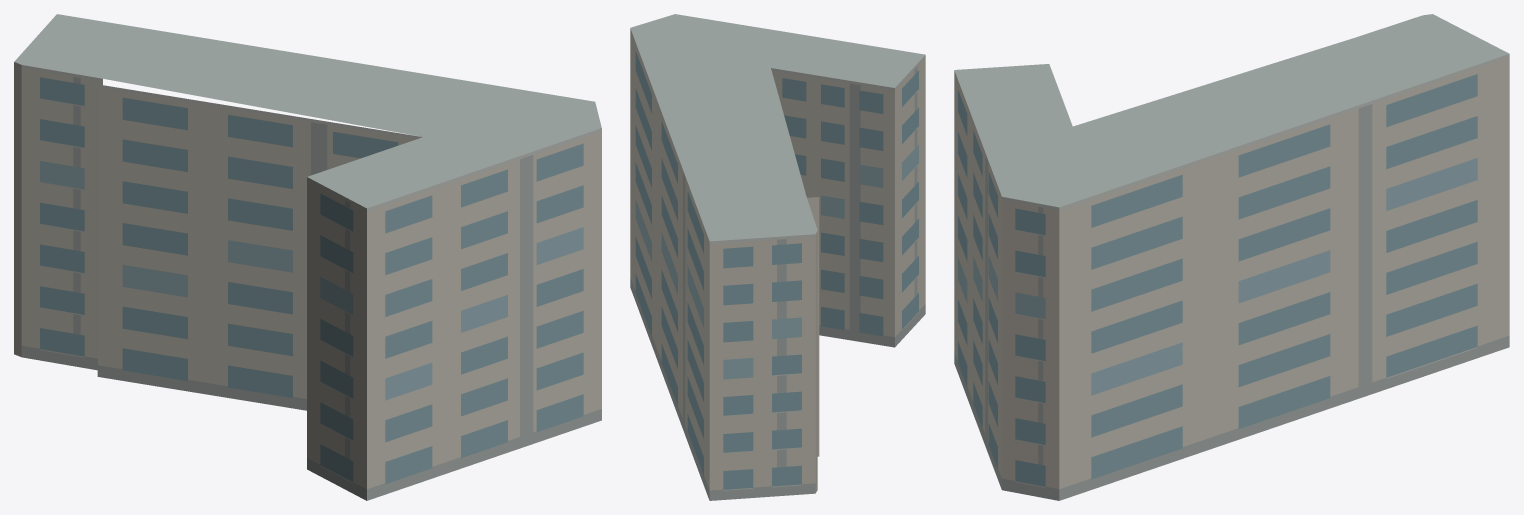
Rendered from survey-upis-32967849.glb.
3 views of the same model, side by side, from view 1: azimuth 30°, elevation 25°; view 2: azimuth 150°, elevation 25°; view 3: azimuth 270°, elevation 25° (orthographic). The views are drawn at different scales.
Visible parts, largest first — view 1: survey-upis-32967849.tmp; view 2: survey-upis-32967849.tmp; view 3: survey-upis-32967849.tmp.
Part boxes in pixels (<box>): survey-upis-32967849.tmp: <box>14,14,601,500</box>; survey-upis-32967849.tmp: <box>630,14,925,500</box>; survey-upis-32967849.tmp: <box>954,14,1509,500</box>.
Bounding box in the file's own units: 31.39 × 22.2 × 38.08.
